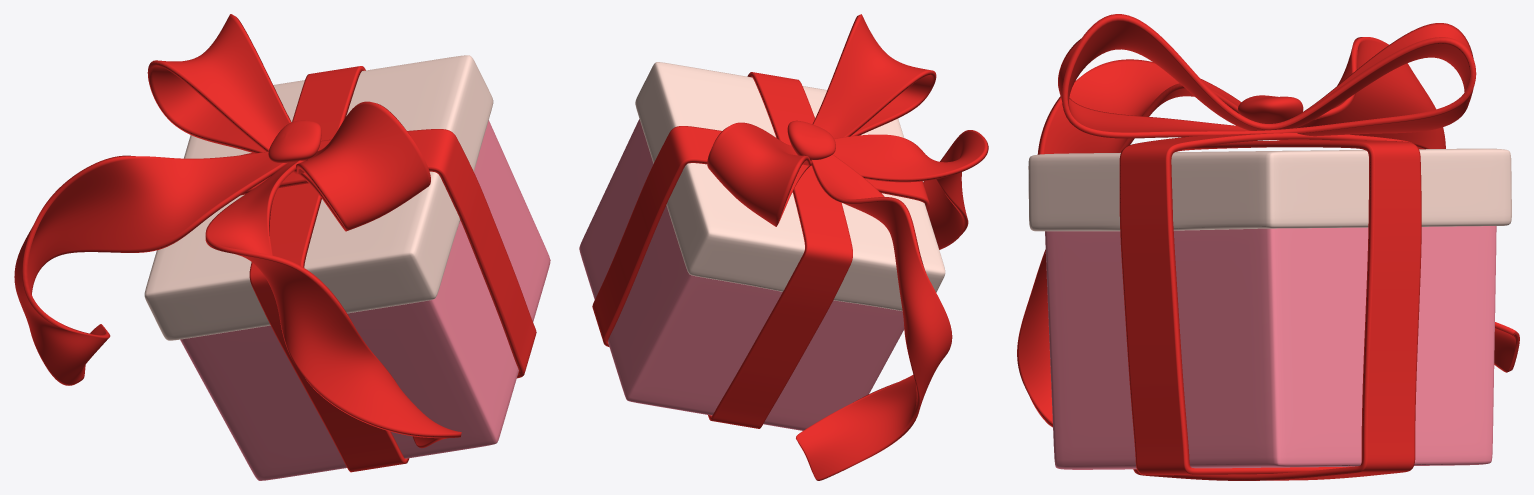
Rendered from ribbon_box.glb.
3 renders of one model, left to right at view 1: azimuth 30°, elevation 25°; view 2: azimuth 150°, elevation 25°; view 3: azimuth 270°, elevation 25°, orthographic. The views are drawn at different scales.
Parts seen in each view (by area): view 1: Box 2, Box 1, Ribbon 1, Ribbon 2, Ribben 5, Ribbon 3, Ribbon 4, Ribbon 5; view 2: Box 2, Box 1, Ribbon 1, Ribbon 4, Ribbon 2, Ribbon 3, Ribben 5, Ribbon 5; view 3: Box 2, Box 1, Ribbon 3, Ribbon 4, Ribbon 2, Ribben 5, Ribbon 1, Ribbon 5.
Boxes of the visible parts, x1=… form: Box 2: x1=180, y1=120, x2=550, y2=480; Box 1: x1=144, y1=55, x2=493, y2=340; Ribbon 1: x1=14, y1=151, x2=288, y2=385; Ribbon 2: x1=147, y1=14, x2=430, y2=231; Ribben 5: x1=205, y1=159, x2=461, y2=448; Ribbon 3: x1=249, y1=66, x2=409, y2=472; Ribbon 4: x1=241, y1=129, x2=536, y2=378; Ribbon 5: x1=268, y1=120, x2=321, y2=162; Box 2: x1=579, y1=119, x2=904, y2=430; Box 1: x1=635, y1=62, x2=945, y2=311; Ribbon 1: x1=796, y1=154, x2=952, y2=480; Ribbon 4: x1=708, y1=72, x2=852, y2=428; Ribbon 2: x1=707, y1=14, x2=936, y2=226; Ribbon 3: x1=592, y1=126, x2=929, y2=346; Ribben 5: x1=833, y1=130, x2=988, y2=249; Ribbon 5: x1=787, y1=120, x2=835, y2=160; Box 2: x1=1045, y1=226, x2=1496, y2=469; Box 1: x1=1028, y1=148, x2=1511, y2=231; Ribbon 3: x1=1121, y1=140, x2=1421, y2=480; Ribbon 4: x1=1119, y1=133, x2=1411, y2=475; Ribbon 2: x1=1058, y1=14, x2=1476, y2=138; Ribben 5: x1=1017, y1=59, x2=1273, y2=427; Ribbon 1: x1=1296, y1=37, x2=1519, y2=372; Ribbon 5: x1=1238, y1=95, x2=1303, y2=123.
Bounding box in the file's own units: 0.8982 × 0.7507 × 0.7142.
